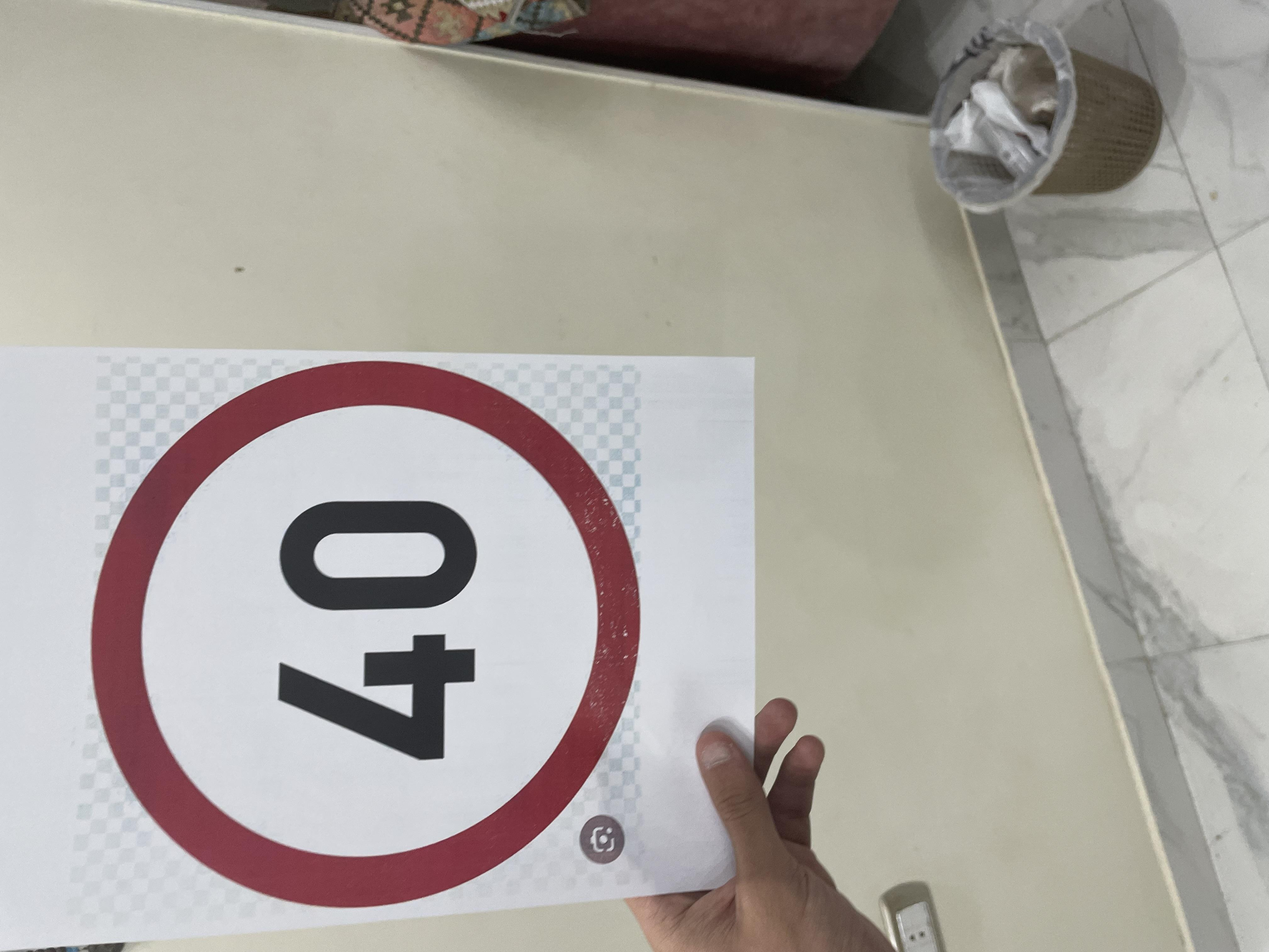40-Speed: (55, 52, 801, 487)
